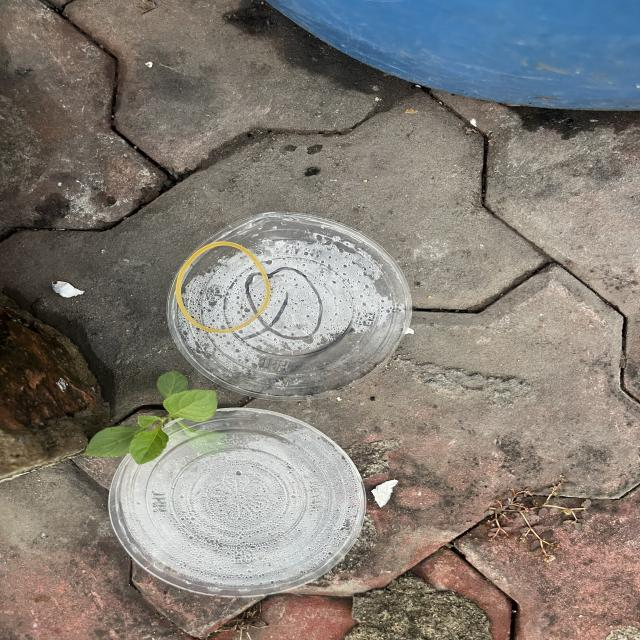lid: (107, 407, 367, 598), (165, 210, 414, 403)
